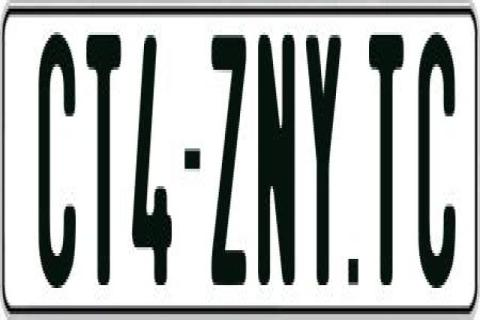0: (129, 32, 173, 296)
C: (416, 27, 456, 297), (35, 26, 74, 282)
N: (257, 27, 297, 280)
T: (368, 29, 404, 291), (86, 32, 121, 300)
Y: (304, 35, 341, 288)
Z: (210, 35, 245, 285)
